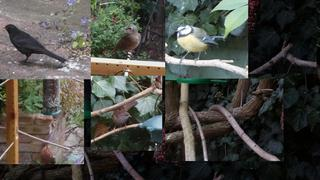blackbird: (1, 24, 67, 67)
blue tit: (174, 24, 224, 65)
dunnock: (112, 100, 138, 133)
starling: (108, 24, 141, 60)
